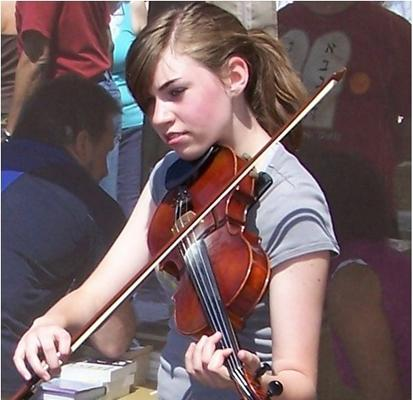person: (14, 3, 340, 400)
